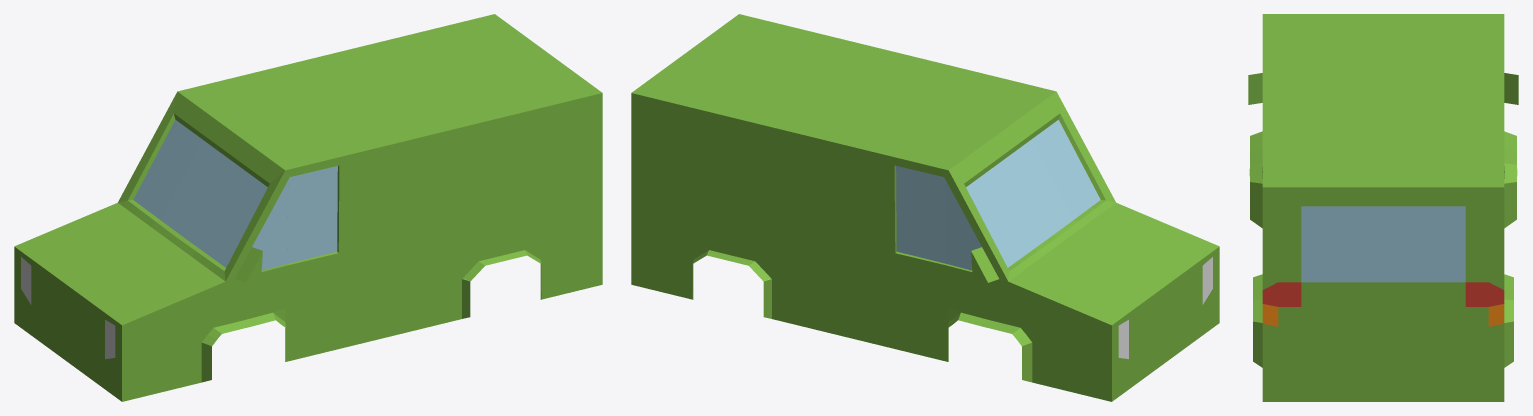
Rendered from green DigiVan.fbx.
3 renders of one model, left to right at view 1: azimuth 30°, elevation 25°; view 2: azimuth 150°, elevation 25°; view 3: azimuth 270°, elevation 25°, orthographic. The views are drawn at different scales.
Visible parts, largest first — view 1: Cube; view 2: Cube; view 3: Cube.
Boxes of the visible parts, left/top/right/bottom form: Cube: left=14, top=14, right=602, bottom=401; Cube: left=631, top=14, right=1219, bottom=401; Cube: left=1248, top=14, right=1518, bottom=401.
Size of the model in its own units: 952 by 363 by 414.
